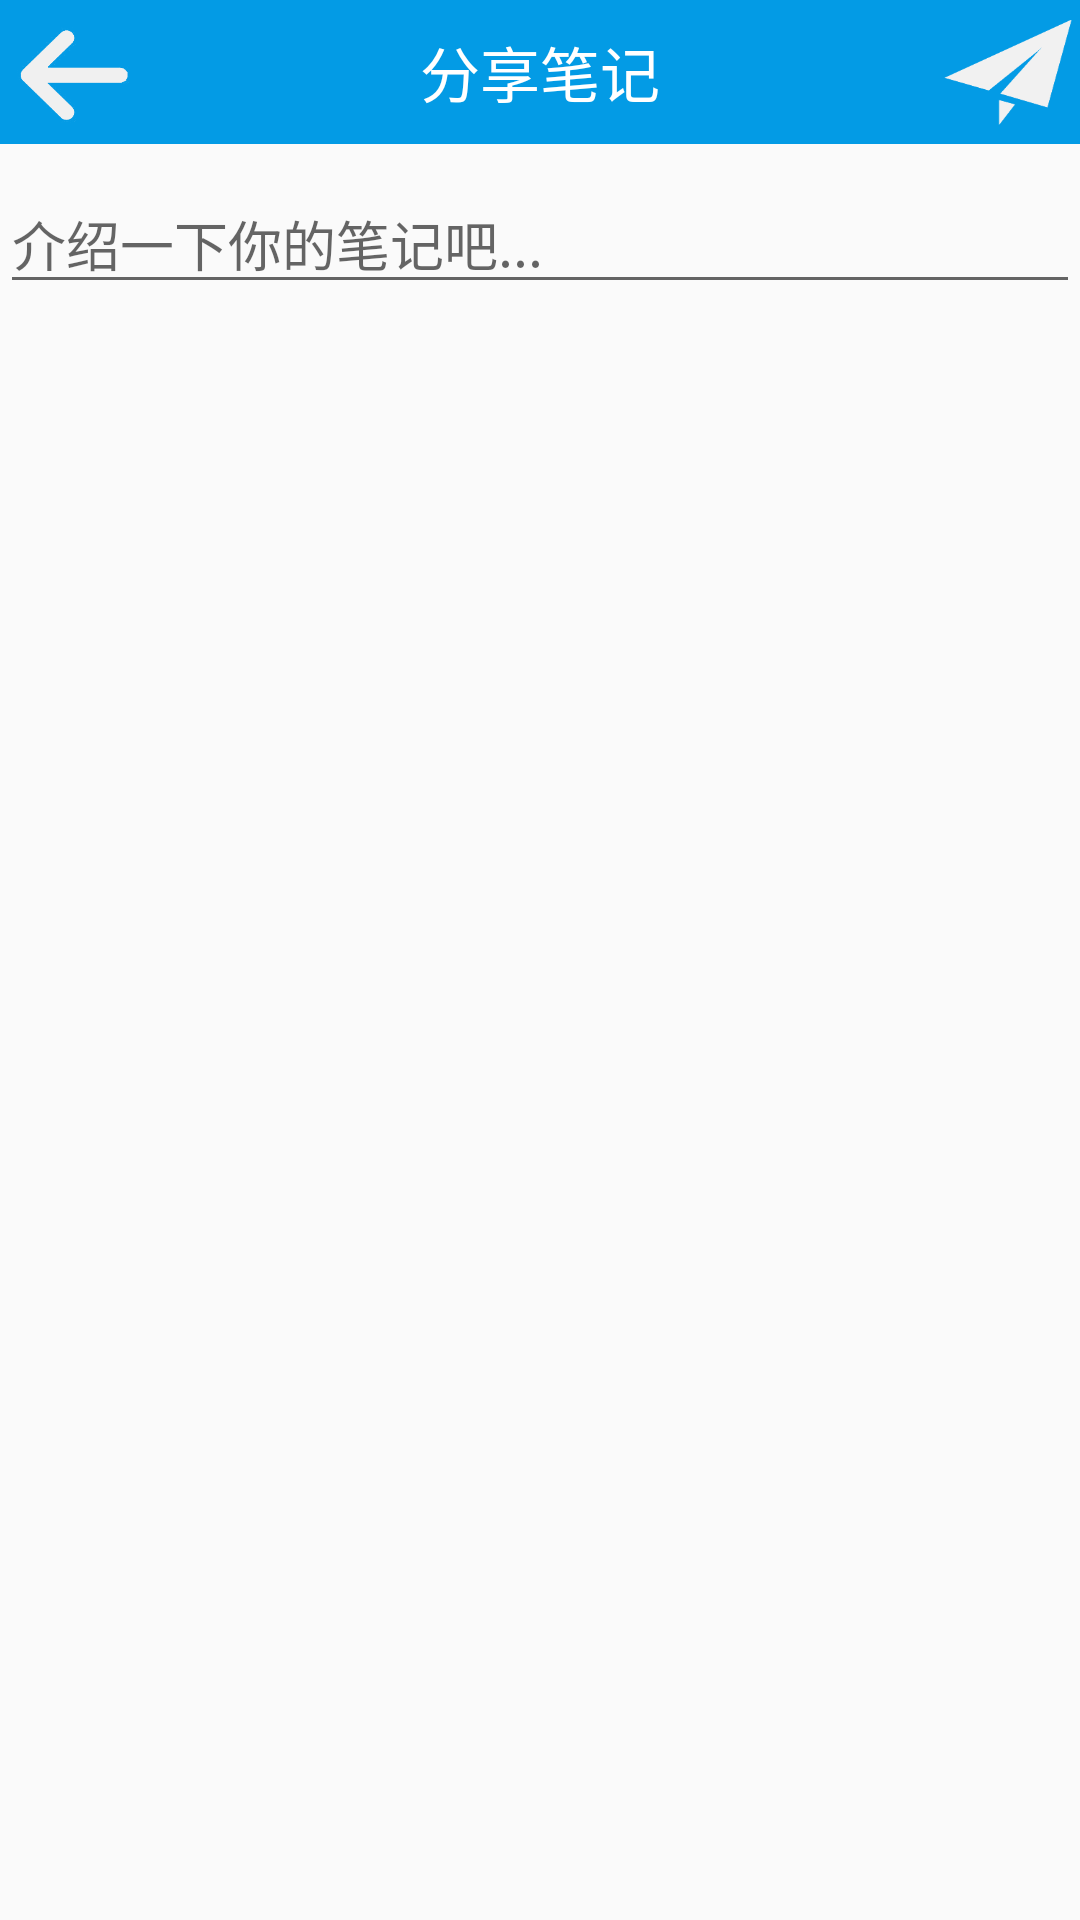

Named icons in this screenshot (1080*1920) and their bounding boxes, [x1,y1,x2,y2]:
create note back: [20,30,128,120]
create note send: [944,20,1072,125]
